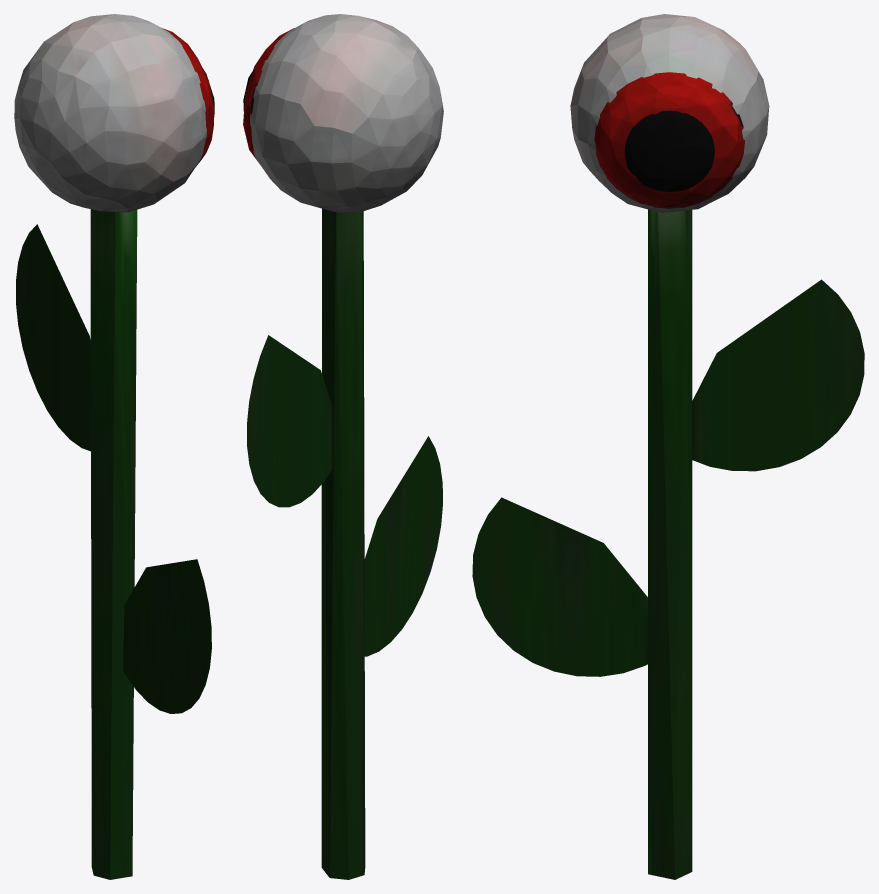
File: eye-flower.dae
The picture shows the model from 3 angles, left to right: view 1: azimuth 30°, elevation 25°; view 2: azimuth 150°, elevation 25°; view 3: azimuth 270°, elevation 25°; orthographic projection.
Parts seen in each view (by area): view 1: Cylinder; view 2: Cylinder; view 3: Cylinder.
Part boxes in pixels (box(x1,y1,x2,y2)): Cylinder: box(14, 14, 214, 879); Cylinder: box(243, 14, 443, 879); Cylinder: box(472, 14, 864, 879).
Size of the model in its own units: 0.0682 by 0.1332 by 0.3174.
Materials: 1 (1 with a texture image).
